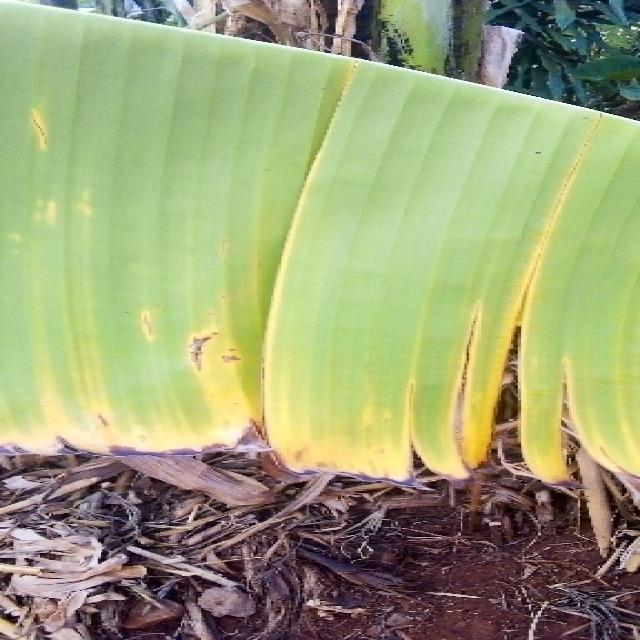Bract_mosaic_virus: (16, 457, 376, 640)
Cordana: (0, 8, 640, 485)
